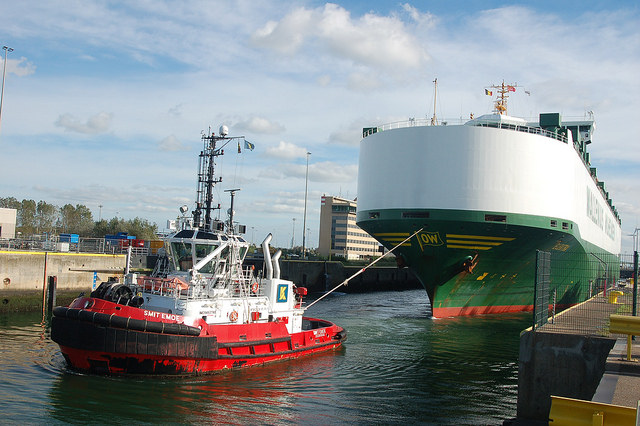PCC: (350, 86, 618, 313)
tug_boat: (48, 135, 358, 372)
